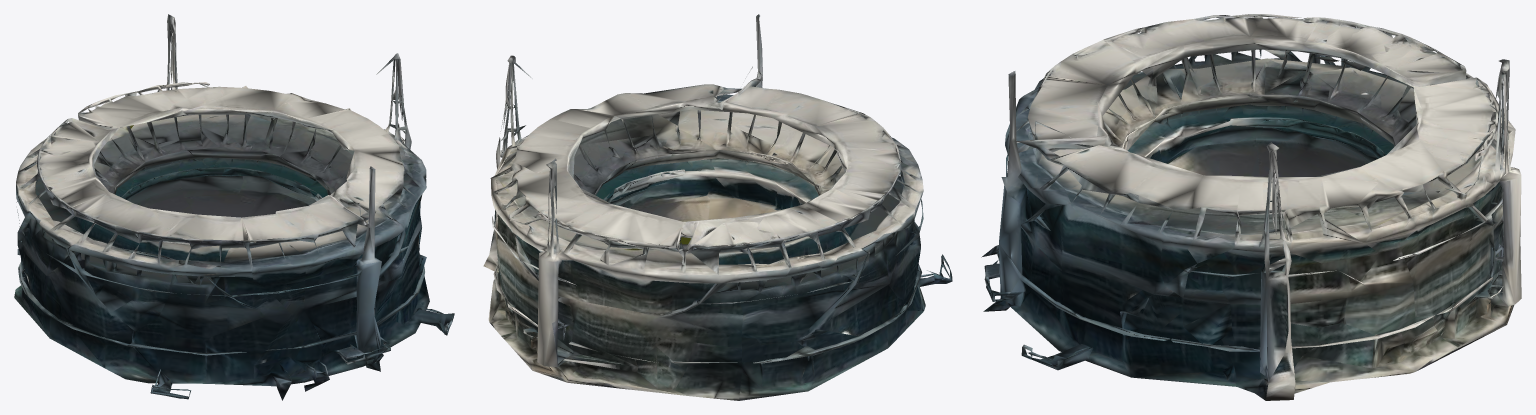
The model's file is mal_miami.glb.
The picture shows the model from 3 angles, left to right: view 1: azimuth 30°, elevation 25°; view 2: azimuth 150°, elevation 25°; view 3: azimuth 270°, elevation 25°; orthographic projection. The views are drawn at different scales.
Visible parts, largest first — view 1: tripo_node_7309fcf3-b61d-4606-9c2a-77d9ed043f4e; view 2: tripo_node_7309fcf3-b61d-4606-9c2a-77d9ed043f4e; view 3: tripo_node_7309fcf3-b61d-4606-9c2a-77d9ed043f4e.
Boxes of the visible parts, box(x1,y1,x2,y2) form: tripo_node_7309fcf3-b61d-4606-9c2a-77d9ed043f4e: box(14, 14, 454, 400); tripo_node_7309fcf3-b61d-4606-9c2a-77d9ed043f4e: box(483, 14, 952, 400); tripo_node_7309fcf3-b61d-4606-9c2a-77d9ed043f4e: box(981, 14, 1521, 400).
Bounding box in the file's own units: 0.9534 × 0.4961 × 0.9464.
Materials: 1 (1 with a texture image).
